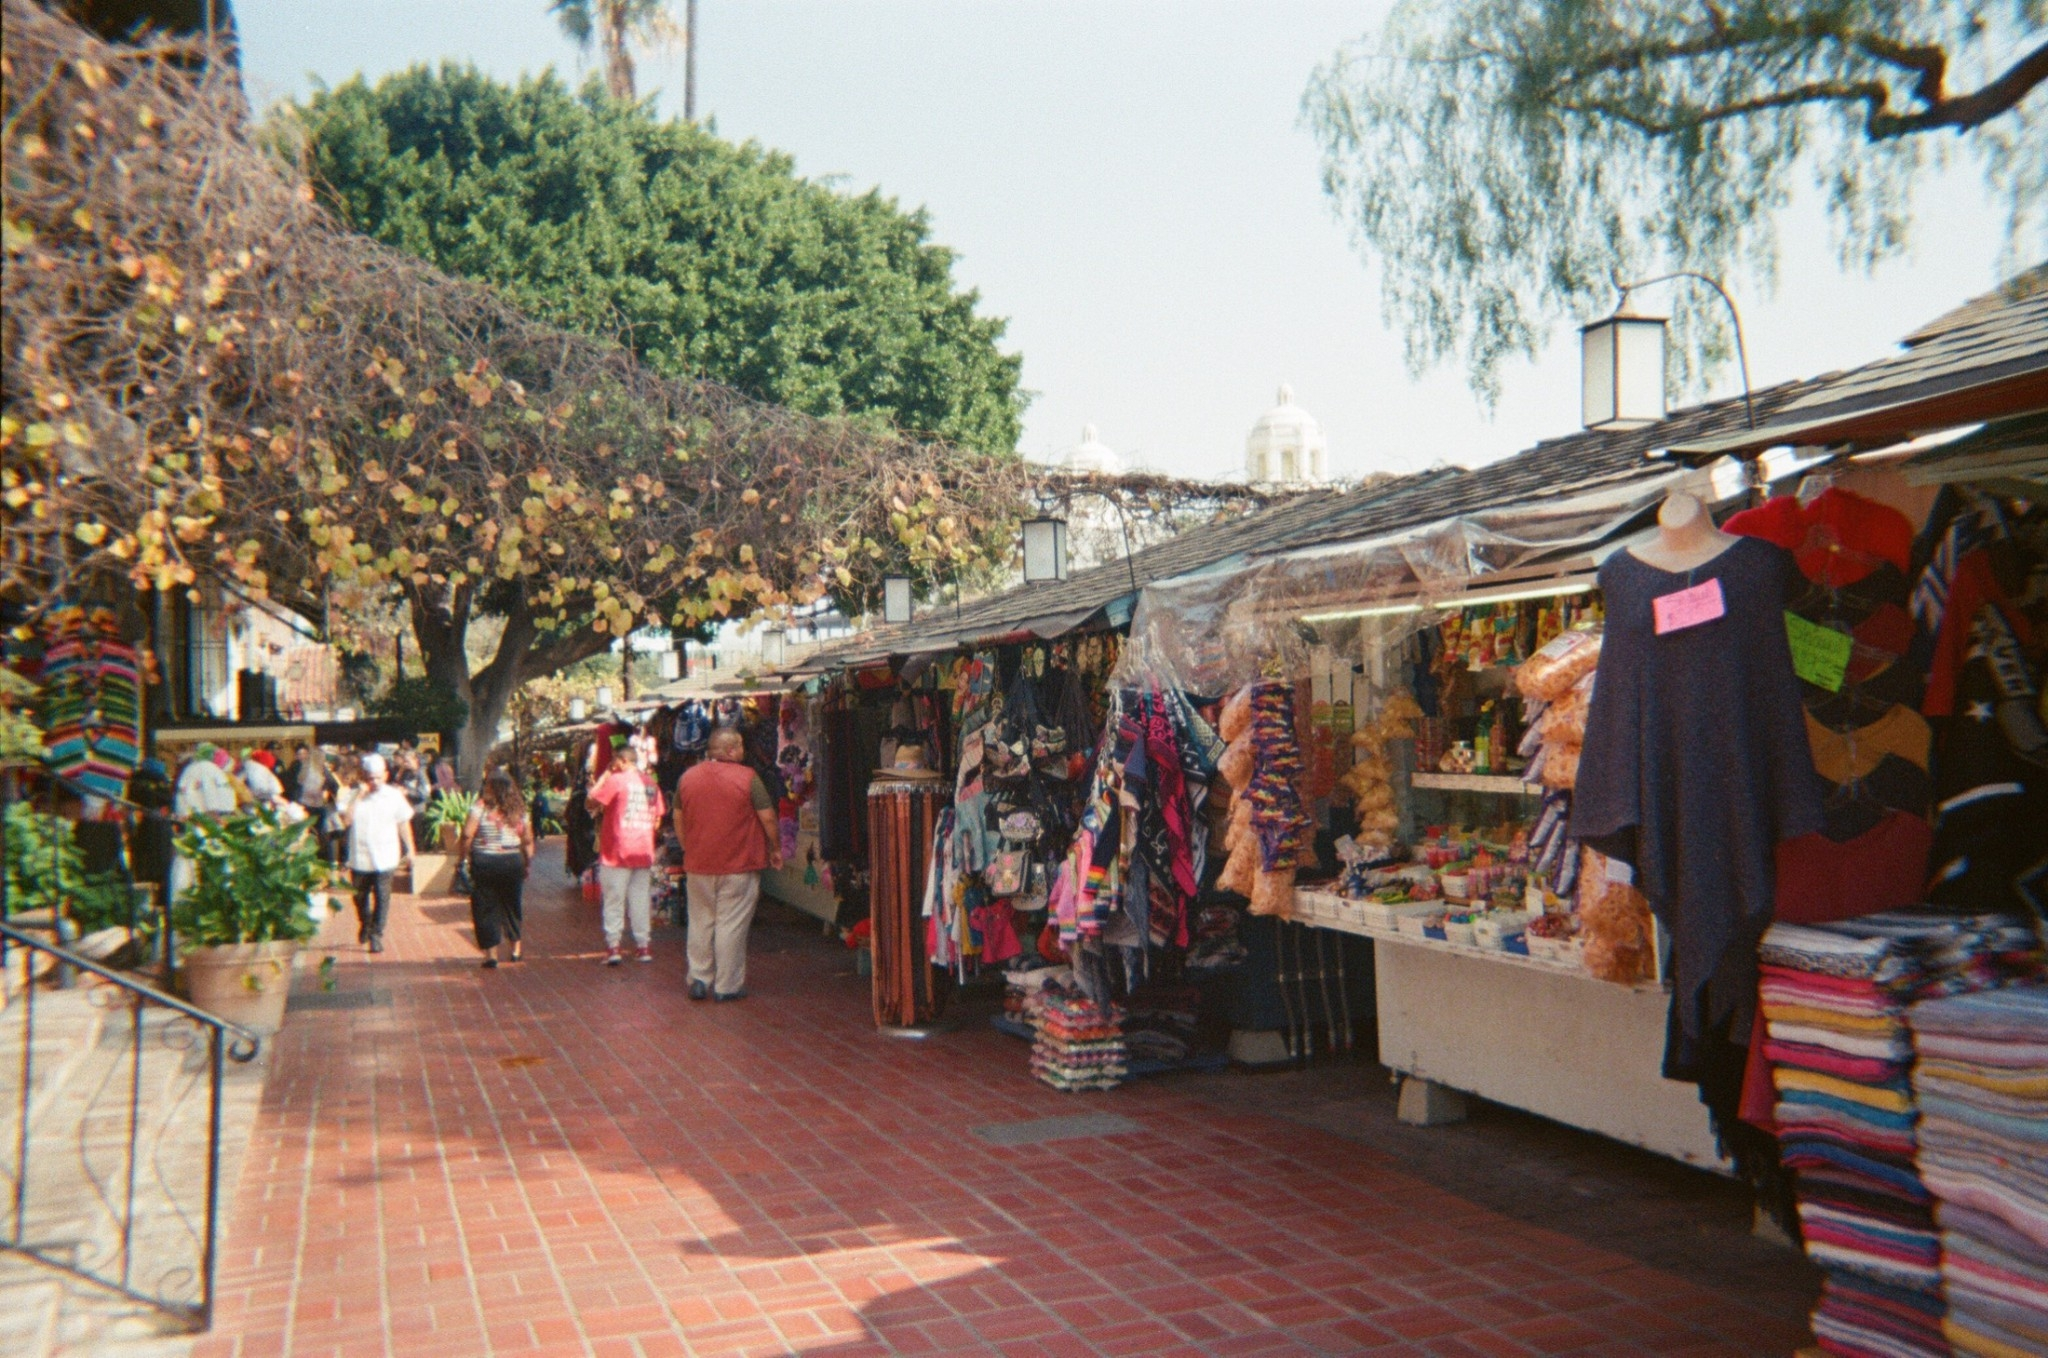people: (675, 727, 778, 1010), (584, 742, 666, 974), (343, 751, 407, 960), (469, 769, 534, 969)
